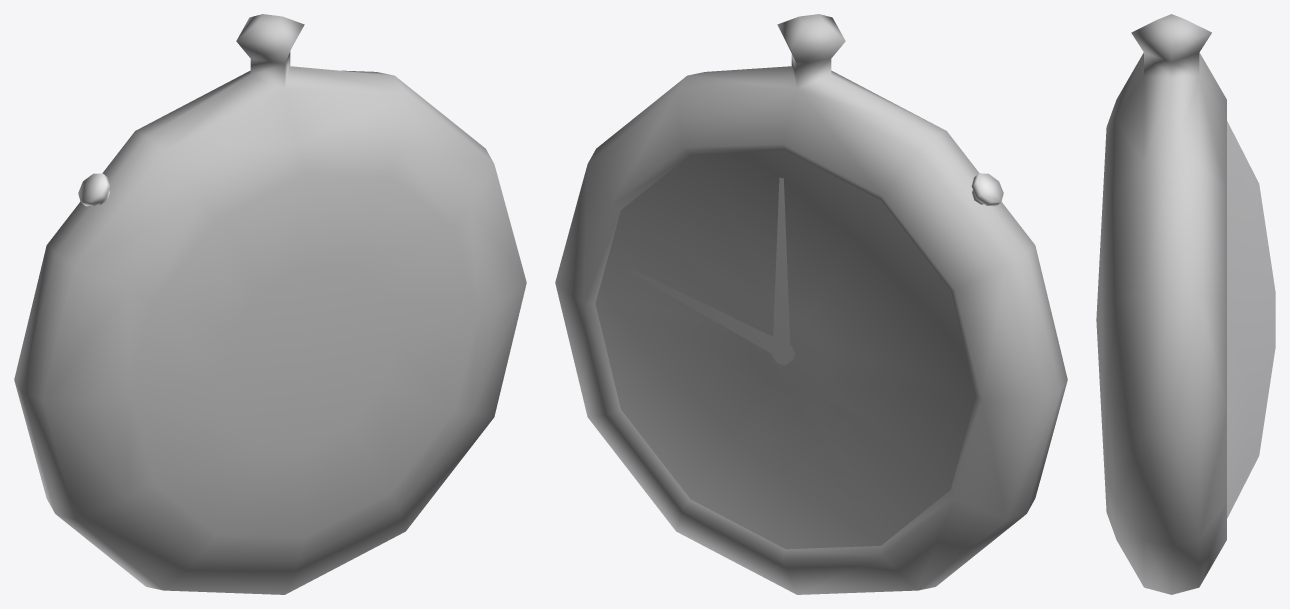
Rendered from stopwatch.glb.
The picture shows the model from 3 angles, left to right: view 1: azimuth 30°, elevation 25°; view 2: azimuth 150°, elevation 25°; view 3: azimuth 270°, elevation 25°; orthographic projection. The views are drawn at different scales.
Parts seen in each view (by area): view 1: Torus, Torus.001; view 2: Torus, glass, hand.001, hand, Torus.001; view 3: Torus, glass.
Part boxes in pixels (left/top/right/bottom): Torus: left=14, top=14, right=526, bottom=594; Torus.001: left=78, top=173, right=110, bottom=206; Torus: left=555, top=14, right=1067, bottom=594; glass: left=596, top=151, right=975, bottom=548; hand.001: left=772, top=177, right=790, bottom=365; hand: left=629, top=268, right=794, bottom=360; Torus.001: left=971, top=173, right=1003, bottom=206; Torus: left=1096, top=14, right=1226, bottom=594; glass: left=1227, top=121, right=1275, bottom=517.
Bounding box in the file's own units: 2.5 × 2.75 × 0.811.
Materials: 2 (1 with a texture image).
